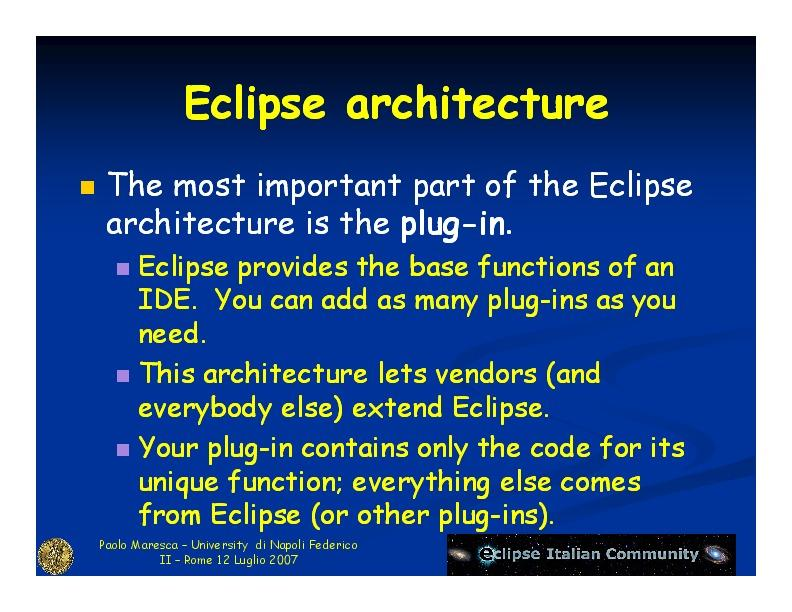paragraph: (76, 160, 724, 534)
subtitle: (88, 530, 747, 577)
title: (182, 71, 616, 127)
